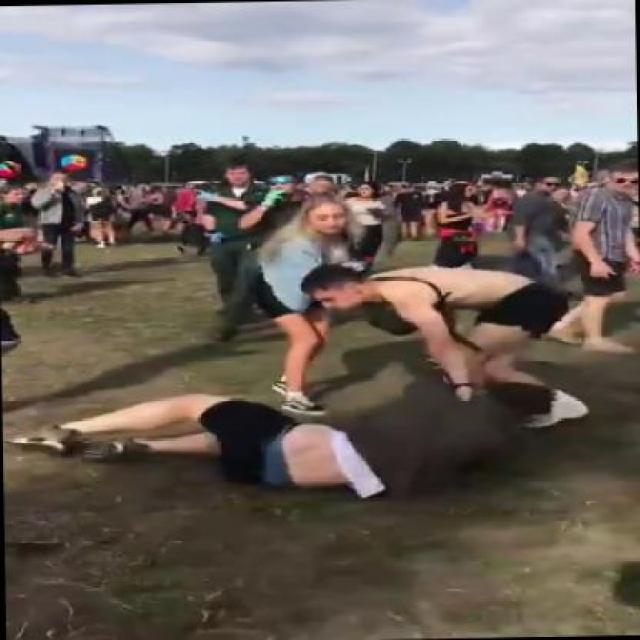fight: (289, 254, 580, 496)
